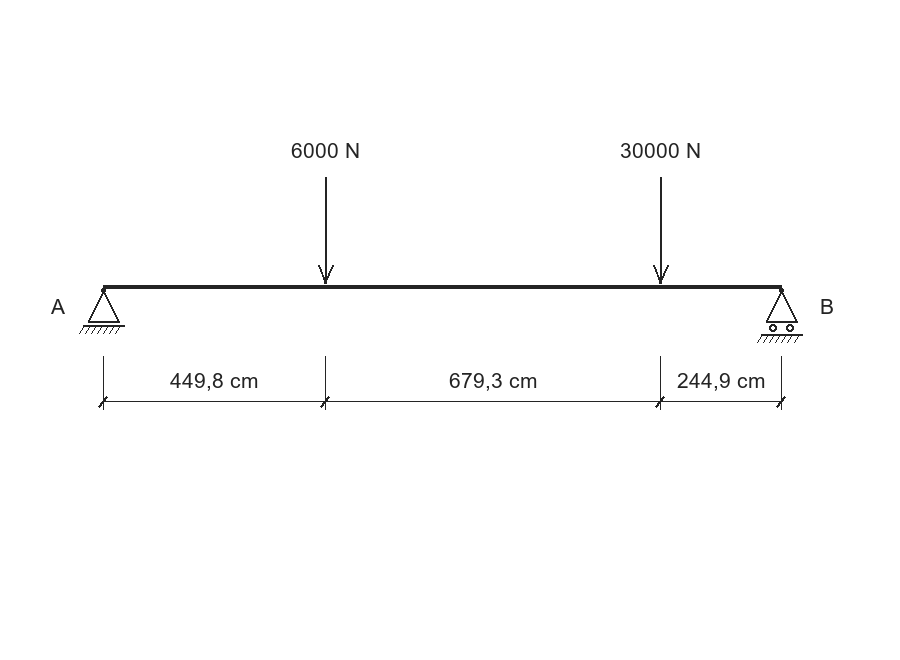pin_support: (79, 288, 125, 334)
point_load: (318, 177, 334, 284), (653, 177, 669, 284)
roller_support: (757, 288, 803, 343)
